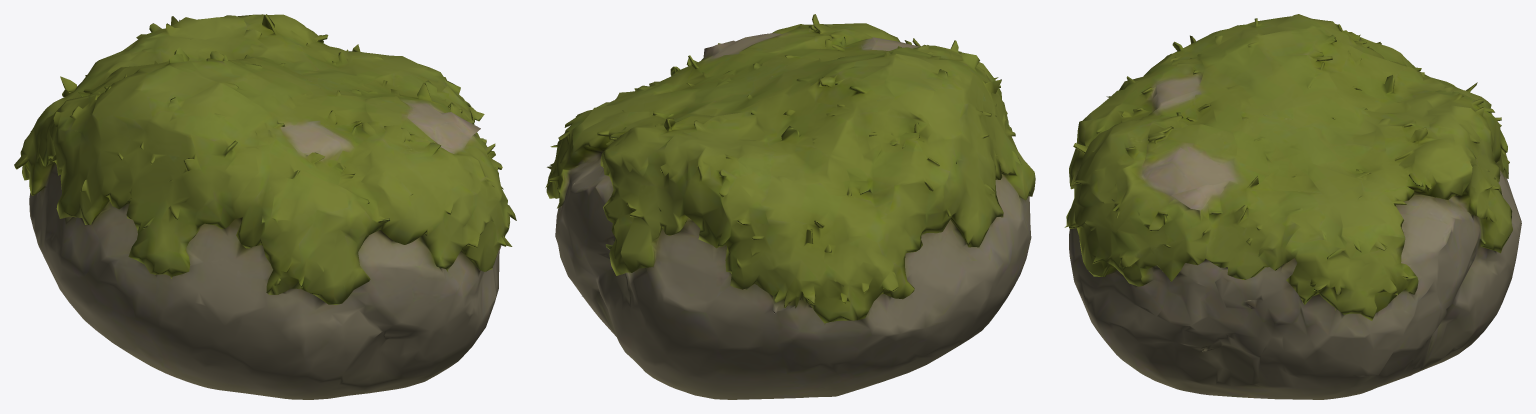
3 renders of one model, left to right at view 1: azimuth 30°, elevation 25°; view 2: azimuth 150°, elevation 25°; view 3: azimuth 270°, elevation 25°, orthographic. The views are drawn at different scales.
Parts seen in each view (by area): view 1: tripo_node_b0917bf4-d510-46c4-aadc-f56957222fcd; view 2: tripo_node_b0917bf4-d510-46c4-aadc-f56957222fcd; view 3: tripo_node_b0917bf4-d510-46c4-aadc-f56957222fcd.
Part boxes in pixels (<box>): tripo_node_b0917bf4-d510-46c4-aadc-f56957222fcd: <box>14,14,516,399</box>; tripo_node_b0917bf4-d510-46c4-aadc-f56957222fcd: <box>545,14,1035,399</box>; tripo_node_b0917bf4-d510-46c4-aadc-f56957222fcd: <box>1064,14,1521,399</box>.
Size of the model in its own units: 1.44 by 1 by 1.43.
1 material, 1 textured.
